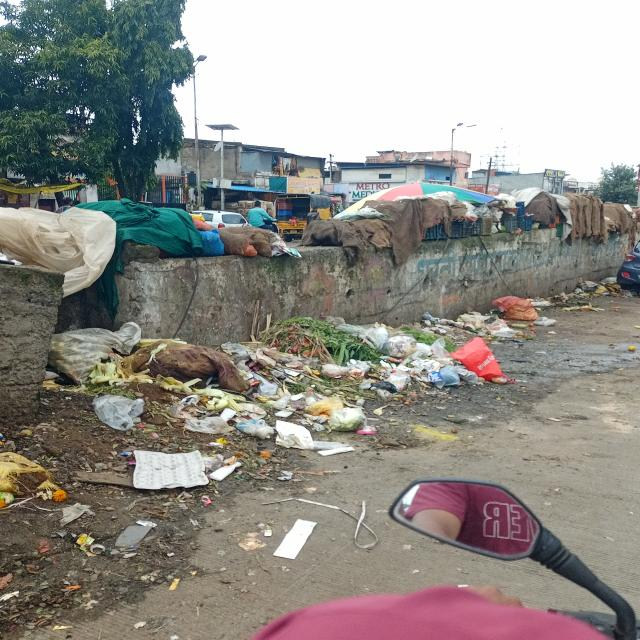garbage: (3, 322, 284, 501), (294, 319, 514, 432), (501, 292, 613, 320)
